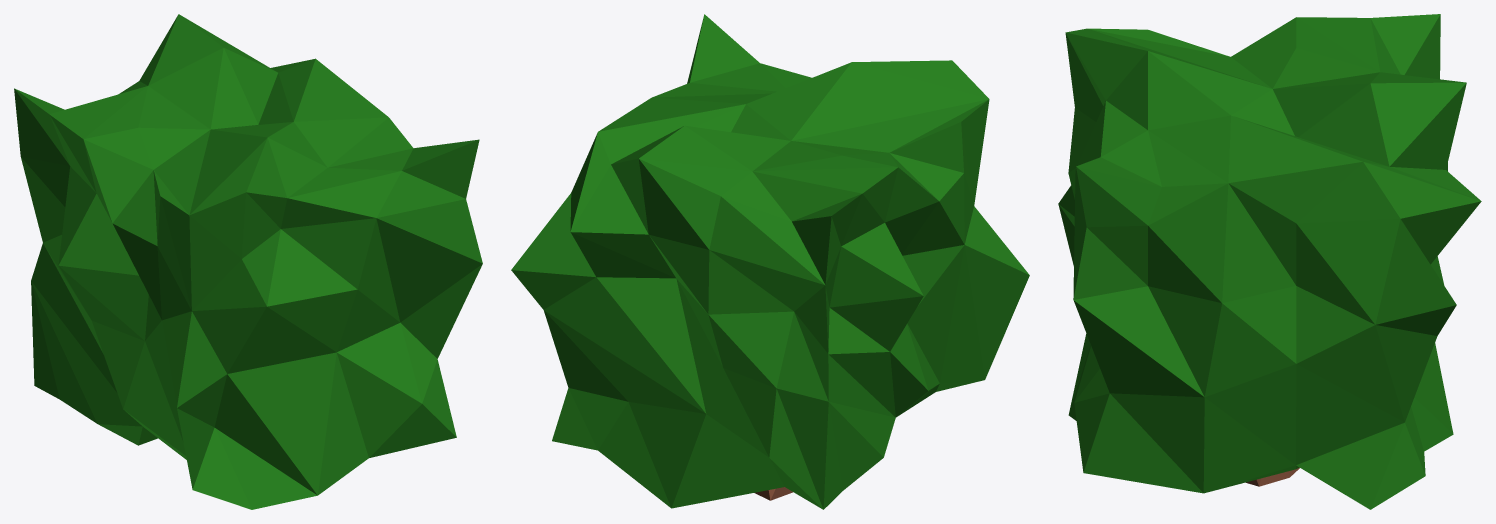
Rendered from bush_7_summer_vc.fbx.
3 views of the same model, side by side, from view 1: azimuth 30°, elevation 25°; view 2: azimuth 150°, elevation 25°; view 3: azimuth 270°, elevation 25° (orthographic). The views are drawn at different scales.
Visible parts, largest first — view 1: bush_7_summer_vc; view 2: bush_7_summer_vc; view 3: bush_7_summer_vc.
Part boxes in pixels (<box>): bush_7_summer_vc: <box>14,14,482,509</box>; bush_7_summer_vc: <box>511,14,1029,509</box>; bush_7_summer_vc: <box>1058,14,1481,509</box>.
Bounding box in the file's own units: 1.24 × 1.36 × 1.29.
